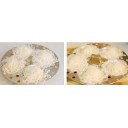idiyappam: (66, 52, 89, 71), (79, 65, 104, 82), (79, 42, 103, 59), (33, 49, 55, 67), (24, 64, 44, 83), (103, 59, 128, 74), (100, 46, 122, 62), (3, 56, 24, 72), (13, 44, 34, 59)
